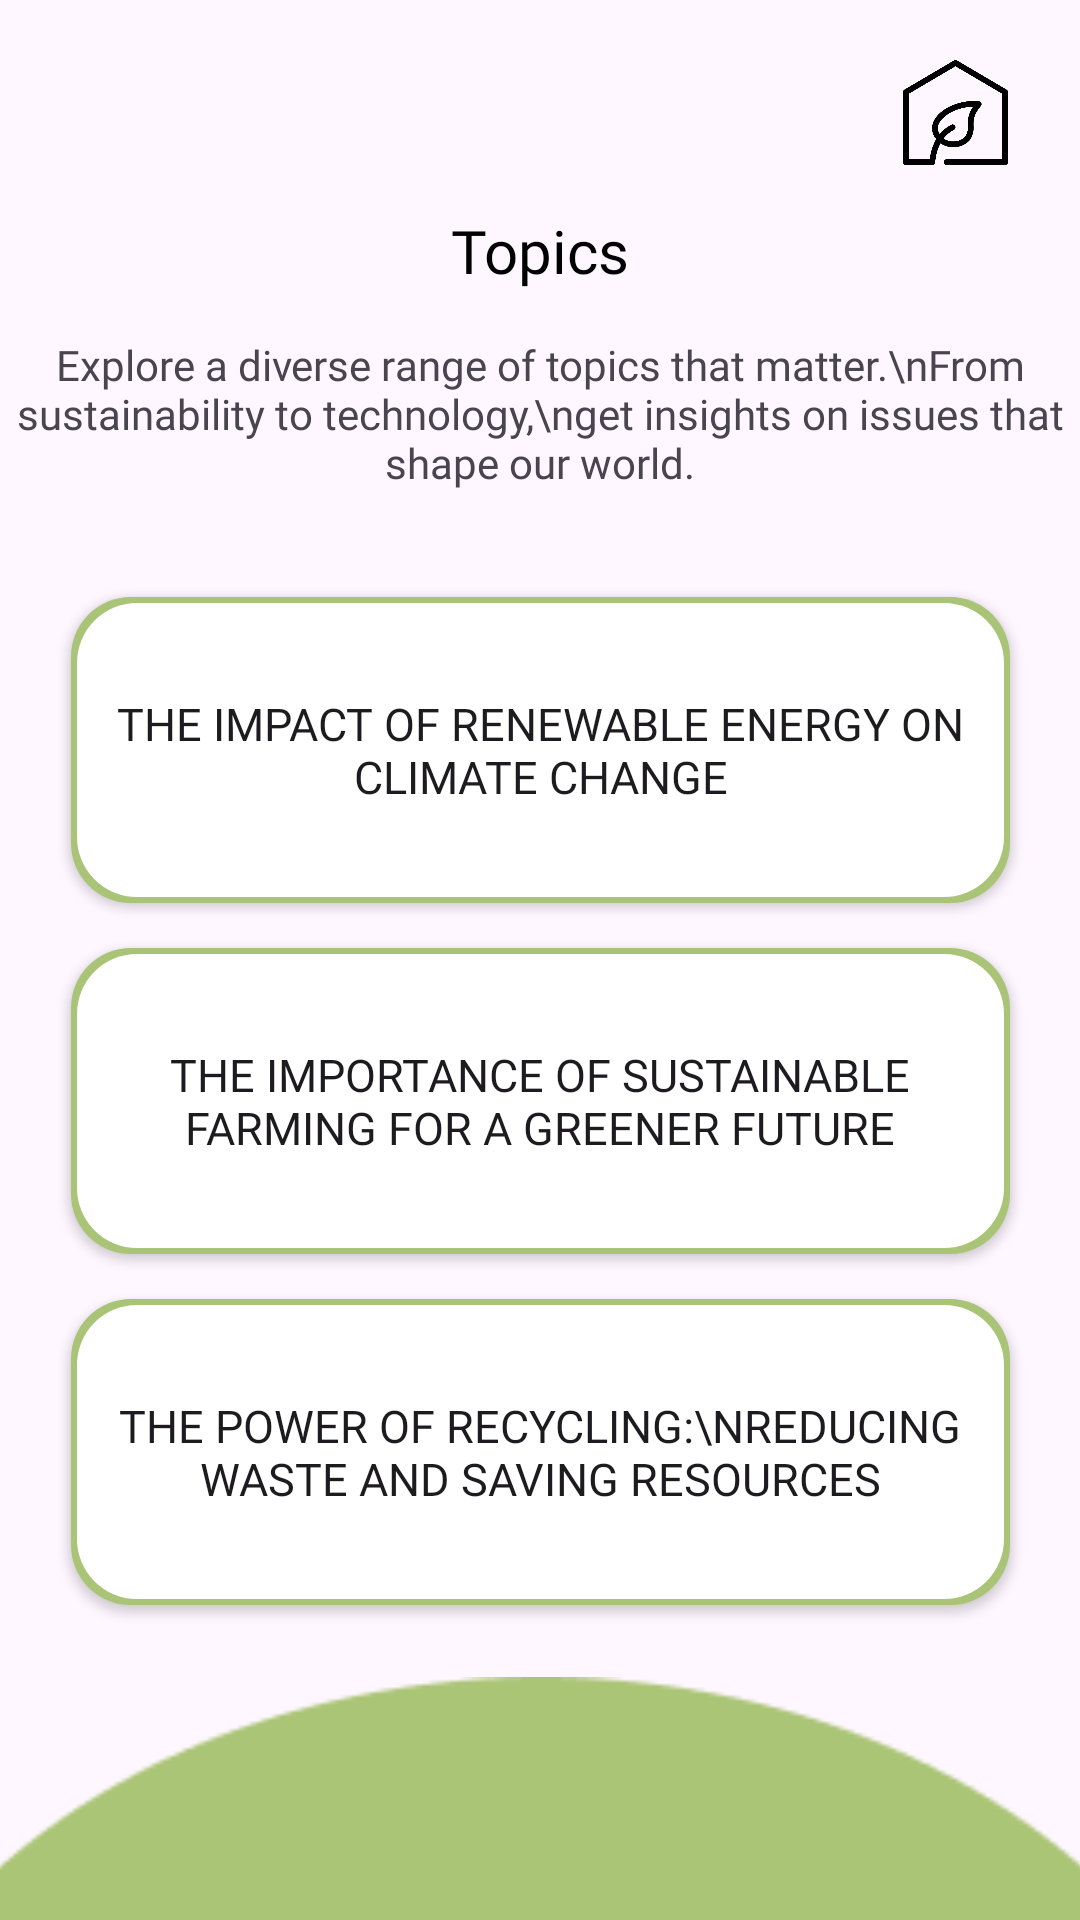

Where to tap for icons on this 1080×1920 app screen, as point (x, y):
greenhouse: point (955, 112)
